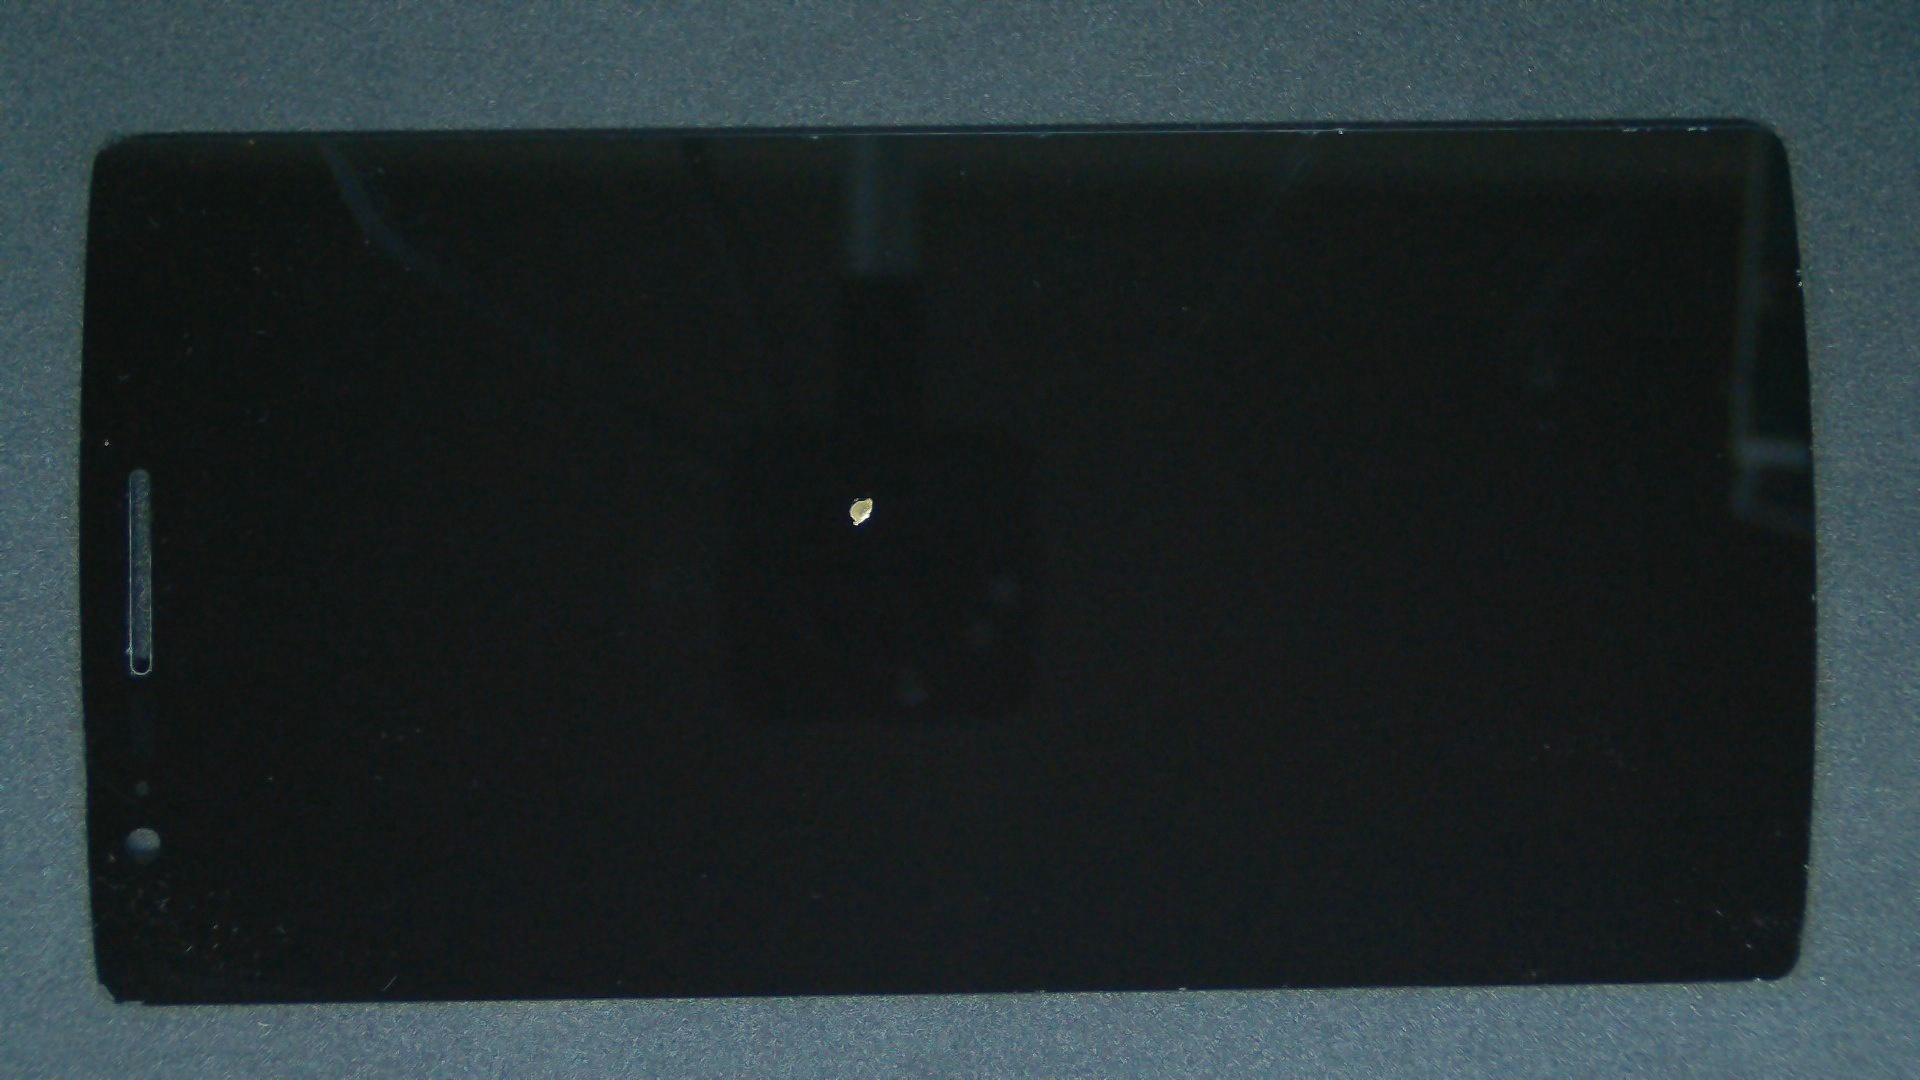oil: (435, 247, 1302, 744)
